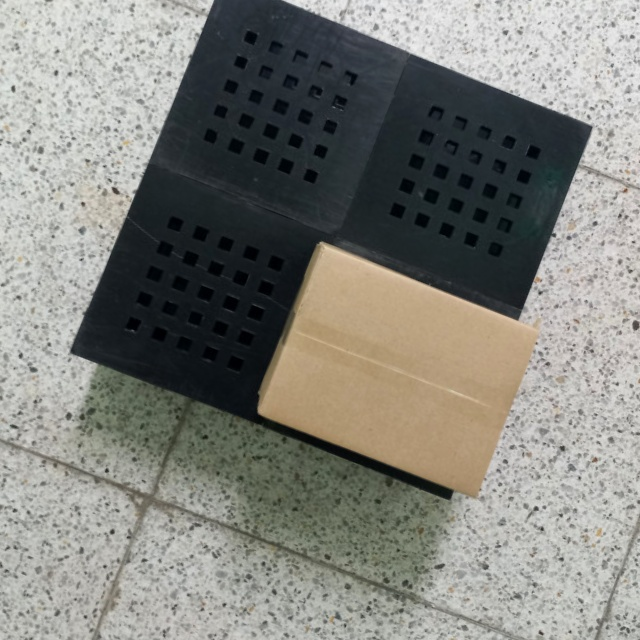box: (251, 237, 544, 504)
pallet: (68, 0, 591, 487)
